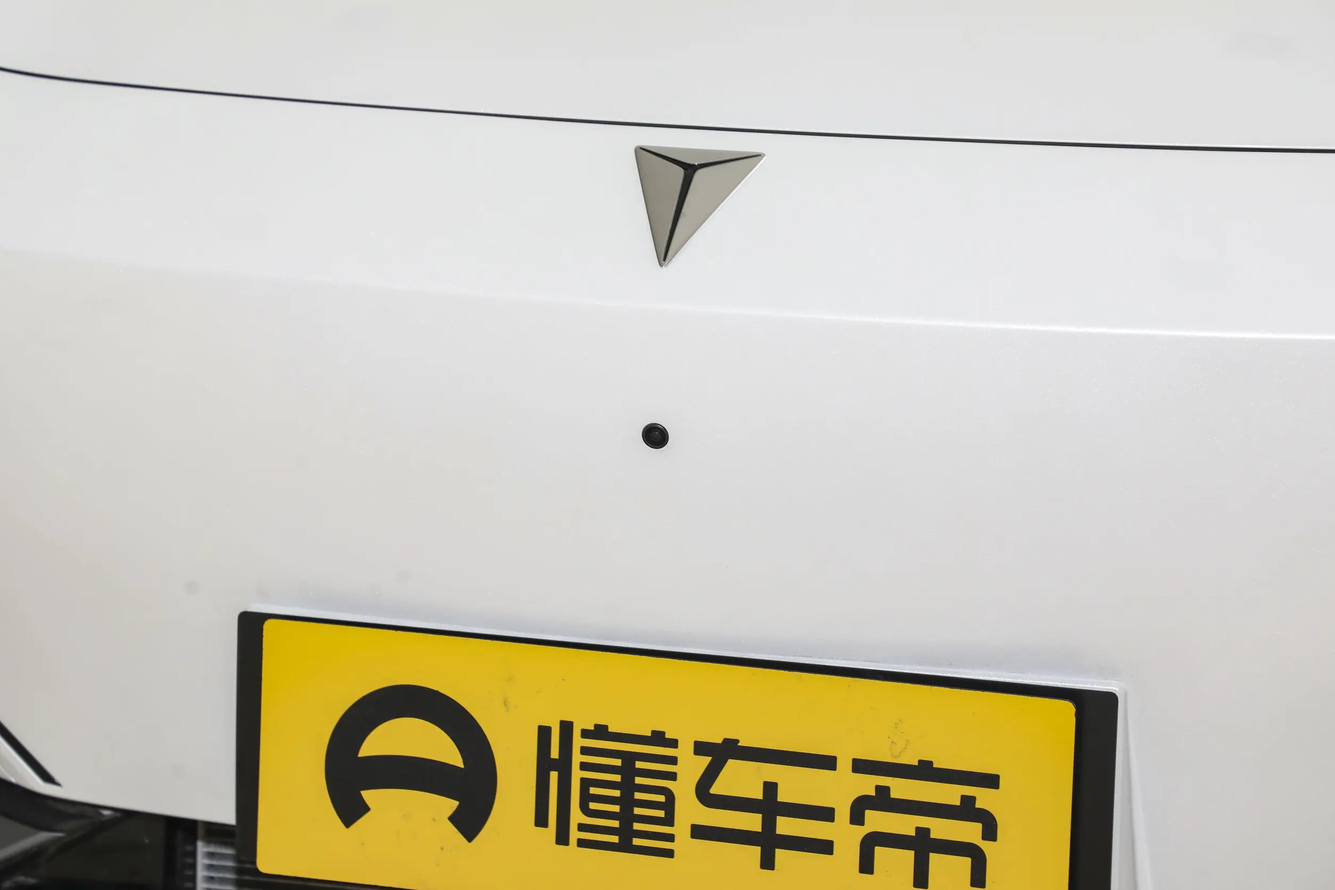Deepal: (634, 145, 765, 267)
